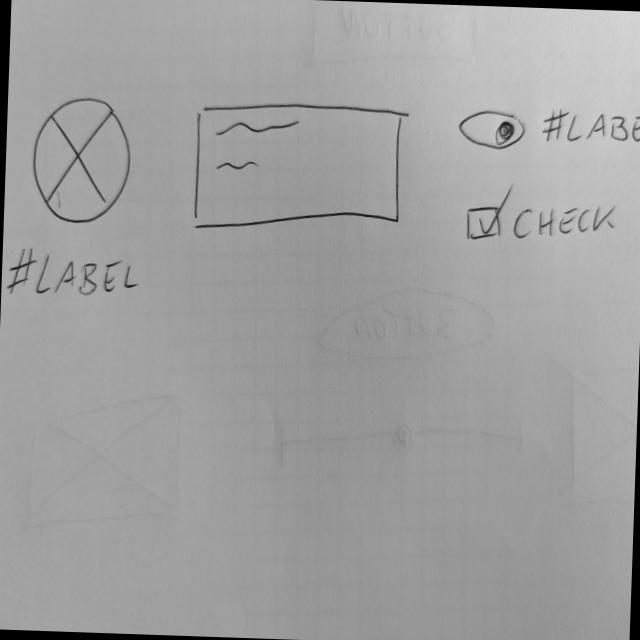checkbox: (462, 191, 624, 250)
image: (29, 89, 137, 228)
label: (5, 240, 146, 309), (538, 103, 640, 154)
textarea: (191, 100, 407, 240)
toggle: (457, 108, 528, 152)
